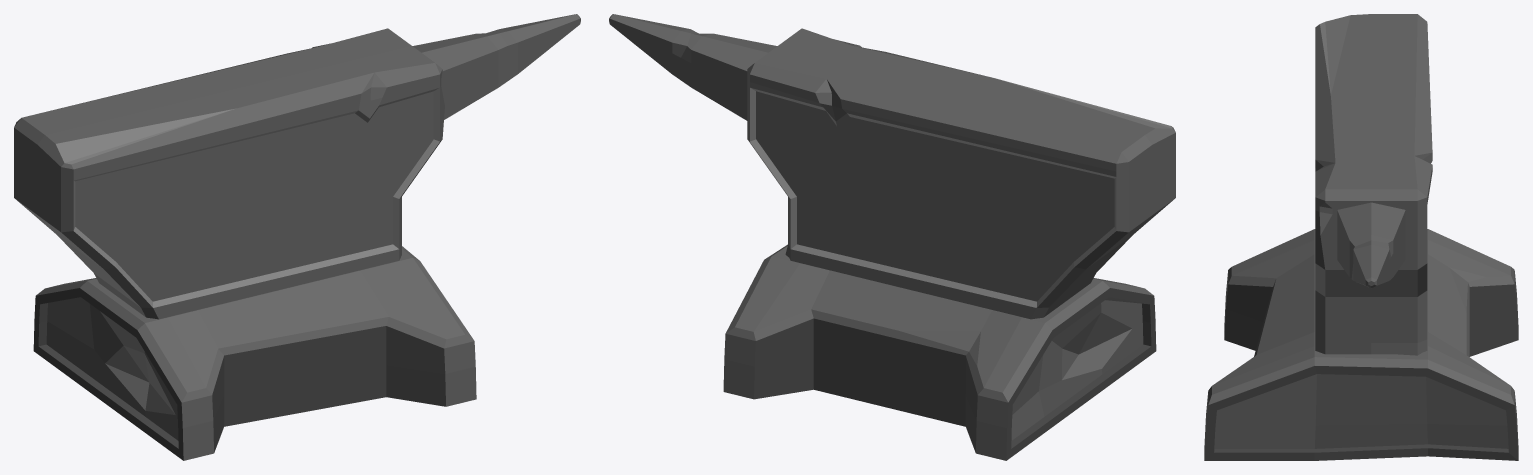
File: Anvil2.fbx
3 renders of one model, left to right at view 1: azimuth 30°, elevation 25°; view 2: azimuth 150°, elevation 25°; view 3: azimuth 270°, elevation 25°, orthographic.
Visible parts, largest first — view 1: Anvil2; view 2: Anvil2; view 3: Anvil2.
Boxes of the visible parts, box(x1,y1,x2,y2) form: Anvil2: box(14, 14, 580, 460); Anvil2: box(609, 14, 1175, 460); Anvil2: box(1204, 14, 1518, 460).
Size of the model in its own units: 105 by 52.85 by 53.51.
